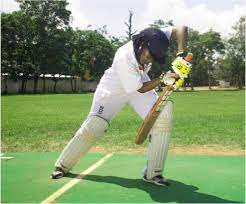bottom left: (133, 137, 140, 147)
bottom right: (140, 141, 145, 150)
top left: (162, 84, 170, 90)
